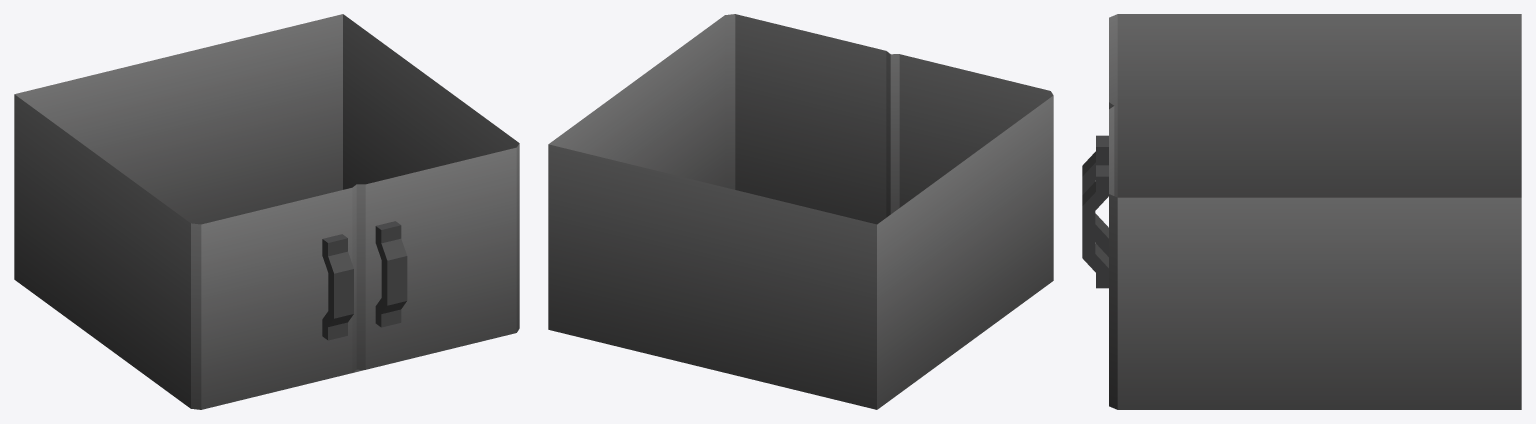
File: Counter_01_v05.fbx
3 renders of one model, left to right at view 1: azimuth 30°, elevation 25°; view 2: azimuth 150°, elevation 25°; view 3: azimuth 270°, elevation 25°, orthographic. The views are drawn at different scales.
Parts seen in each view (by area): view 1: Counter_01_v05; view 2: Counter_01_v05; view 3: Counter_01_v05.
Boxes of the visible parts, x1,y1,x2,y2 form: Counter_01_v05: (14,14,519,409); Counter_01_v05: (548,14,1053,409); Counter_01_v05: (1082,14,1521,409).
Size of the model in its own units: 100 by 53.91 by 101.
